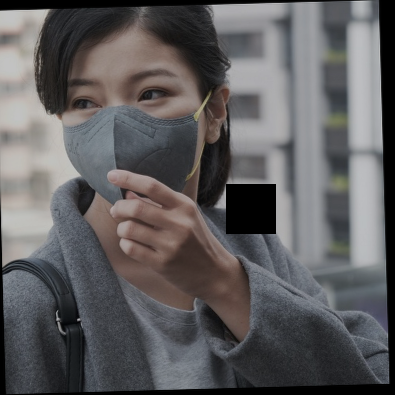with_mask: (59, 66, 208, 213)
